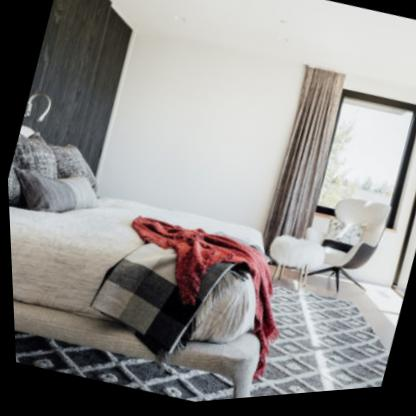Curtains: (260, 71, 345, 254)
Wall Panel: (6, 125, 275, 402), (21, 0, 132, 172)
